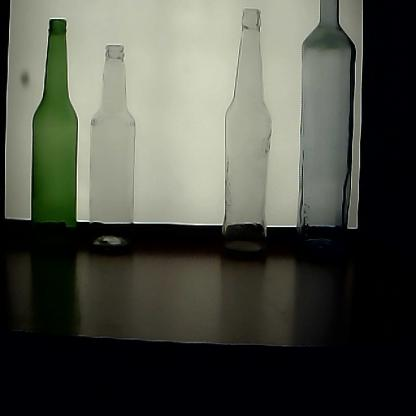Can: (292, 1, 358, 269), (217, 9, 274, 270), (25, 15, 81, 265), (87, 43, 138, 264)
